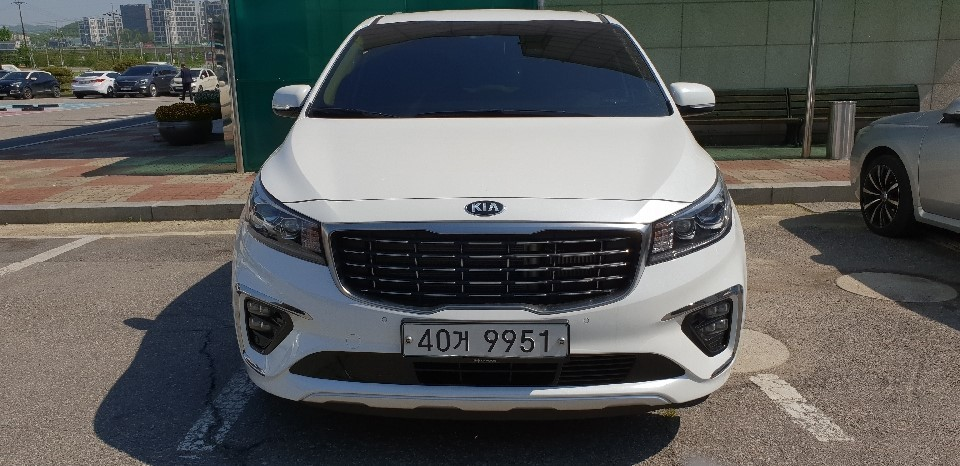car: (397, 316, 575, 364)
